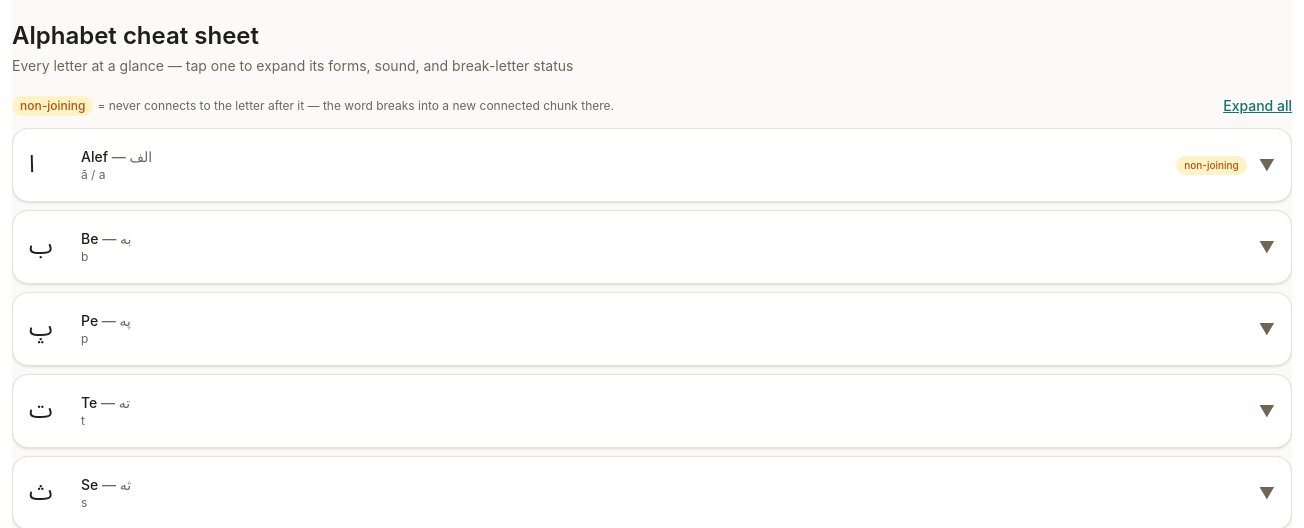
Test: AlphabetCheatSheet › expands a letter on click to reveal forms and break-letter explanation
This screenshot has width=1304, height=528.
Click the button "ا Alef — الف ā / a non-joining ▼": (1212, 165) x1=13 y1=129 x2=1291 y2=201
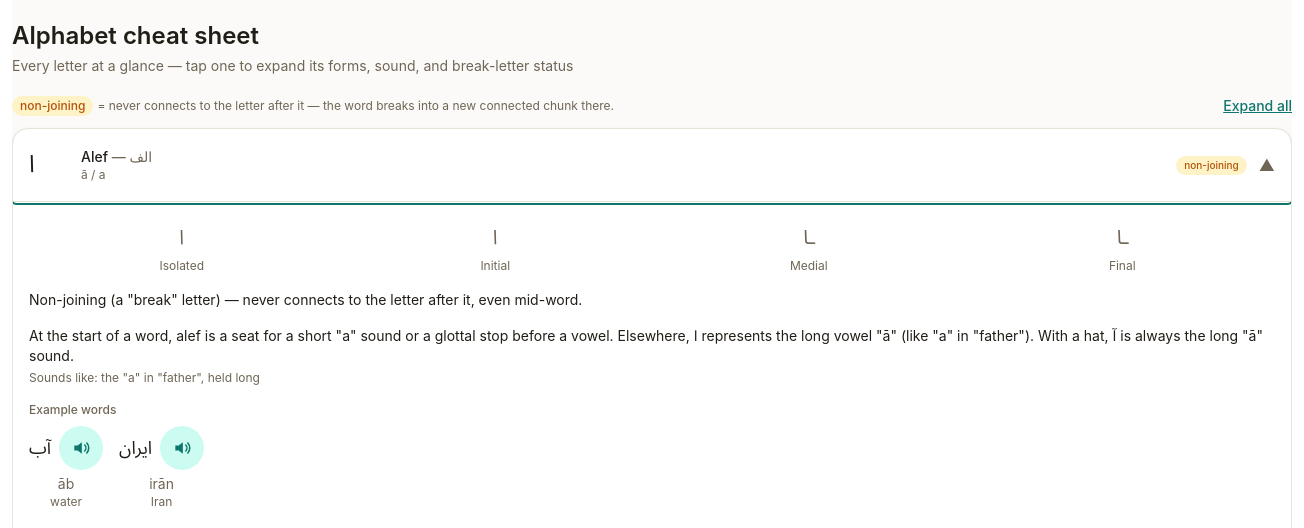
Expected: the button "ا Alef — الف ā / a non-joining ▲" is expanded, x1=13 y1=129 x2=1291 y2=201
Expected: the text "Isolated" is shown, x1=160 y1=258 x2=204 y2=273
Expected: the text "Non-joining (a \"break\" letter)" is shown, x1=29 y1=291 x2=582 y2=308
